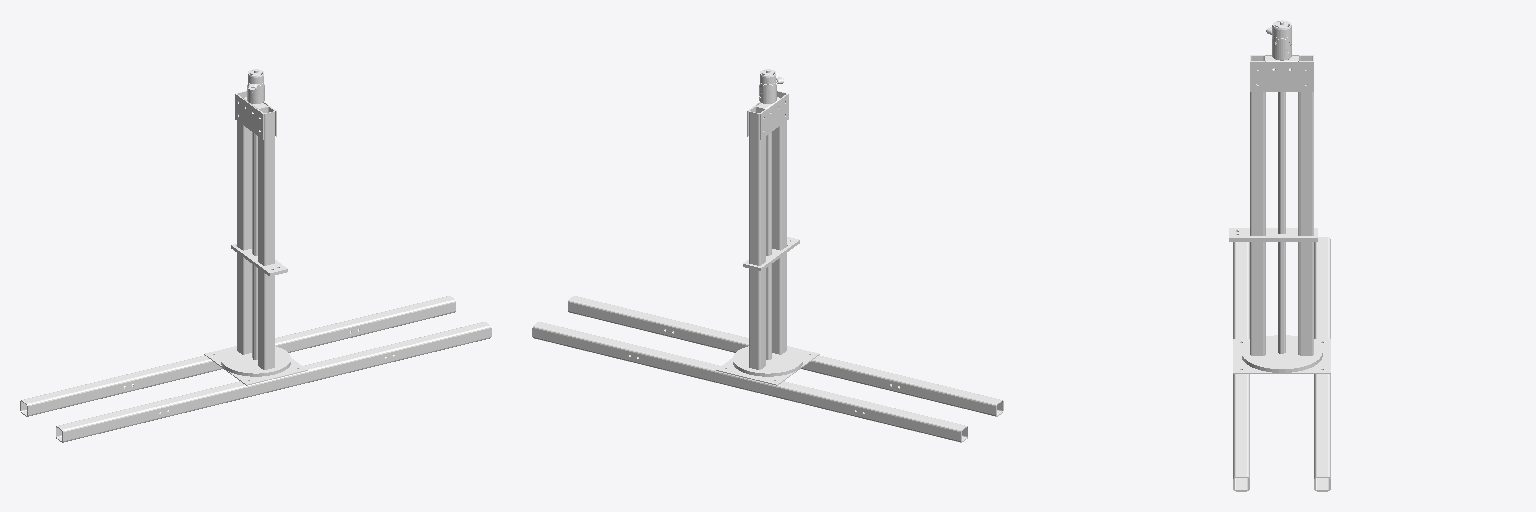
robot.urdf — gluon:
<?xml version="1.0" encoding="utf-8"?>
<!-- This URDF was automatically created by SolidWorks to URDF Exporter! Originally created by [author] ([email redacted]) 
     Commit Version: 1.5.1-0-g916b5db  Build Version: 1.5.7152.31018
     For more information, please see http://wiki.ros.org/sw_urdf_exporter -->
<robot
  name="gluon">
  <link
    name="dummy">
  </link>
  <joint
    name="dummy_center_joint"
    type="fixed">
    <origin
        xyz="0 0 0"
        rpy="0 0 0" />
    <parent
        link="dummy" />
    <child
        link="center_link" />
  </joint>
  <link
    name="center_link">
        <inertial>
      <origin
        xyz="4.33680868994202E-18 -6.00214600243731E-11 0.0271404483614374"
        rpy="0 0 0" />
      <mass
        value="0.524001417146026" />
      <inertia
        ixx="0.000535467082580035"
        ixy="-5.8056109802237E-10"
        ixz="3.22416889484249E-20"
        iyy="0.000535467122847014"
        iyz="-1.91837356854663E-11"
        izz="0.000799852045598815" />
    </inertial>
    <visual>
      <origin
        xyz="0 0 0"
        rpy="0 0 0" />
      <geometry>
        <mesh
          filename="package://gluon/meshes/center_link.STL" />
      </geometry>
      <material
        name="">
        <color
          rgba="1 1 1 1" />
      </material>
    </visual>
    <collision>
      <origin
        xyz="0 0 0"
        rpy="0 0 0" />
      <geometry>
        <mesh
          filename="package://gluon/meshes/center_link.STL" />
      </geometry>
    </collision>
  </link>
  <link
    name="base_link">
    <inertial>
      <origin
        xyz="4.33680868994202E-18 -6.00214600243731E-11 0.0271404483614374"
        rpy="0 0 0" />
      <mass
        value="0.524001417146026" />
      <inertia
        ixx="0.000535467082580035"
        ixy="-5.8056109802237E-10"
        ixz="3.22416889484249E-20"
        iyy="0.000535467122847014"
        iyz="-1.91837356854663E-11"
        izz="0.000799852045598815" />
    </inertial>
    <visual>
      <origin
        xyz="0 0 0"
        rpy="0 0 0" />
      <geometry>
        <mesh
          filename="package://gluon/meshes/base_link.STL" />
      </geometry>
      <material
        name="">
        <color
          rgba="1 1 1 1" />
      </material>
    </visual>
    <collision>
      <origin
        xyz="0 0 0"
        rpy="0 0 0" />
      <geometry>
        <mesh
          filename="package://gluon/meshes/base_link.STL" />
      </geometry>
    </collision>
  </link>
  <joint
    name="left_base_joint"
    type="fixed">
    <origin
        xyz="0 0 0"
        rpy="0 0 0" />
    <parent
        link="center_link" />
    <child
        link="base_link" />
  </joint>
  <link
    name="1_Link">
    <inertial>
      <origin
        xyz="0.00464247258603146 -3.55800695980568E-05 -0.000556506974114818"
        rpy="0 0 0" />
      <mass
        value="0.166259789544396" />
      <inertia
        ixx="6.76518298922659E-05"
        ixy="-1.5556489245956E-08"
        ixz="-8.15879264327807E-06"
        iyy="6.70385565720365E-05"
        iyz="4.11369338798553E-08"
        izz="6.03698353342124E-05" />
    </inertial>
    <visual>
      <origin
        xyz="0 0 0"
        rpy="0 0 0" />
      <geometry>
        <mesh
          filename="package://gluon/meshes/1_Link.STL" />
      </geometry>
      <material
        name="">
        <color
          rgba="1 1 1 1" />
      </material>
    </visual>
    <collision>
      <origin
        xyz="0 0 0"
        rpy="0 0 0" />
      <geometry>
        <mesh
          filename="package://gluon/meshes/1_Link.STL" />
      </geometry>
    </collision>
  </link>
  <joint
    name="axis_joint_1"
    type="revolute">
    <origin
      xyz="-2.4327E-05 2.2695E-05 0.105"
      rpy="0 0 0" />
    <parent
      link="base_link" />
    <child
      link="1_Link" />
    <axis
      xyz="0 0 -1" />
    <limit
      lower="-2.79"
      upper="2.79"
      effort="30"
      velocity="3.14" />
  </joint>
  <link
    name="2_Link">
    <inertial>
      <origin
        xyz="-0.00354399449686532 6.83167072432211E-06 0.0535596075762168"
        rpy="0 0 0" />
      <mass
        value="0.316094041078938" />
      <inertia
        ixx="0.000174638310500152"
        ixy="-4.1835416811351E-08"
        ixz="-2.08841744154906E-07"
        iyy="0.000184936237600061"
        iyz="1.60668786323061E-08"
        izz="0.000107780595065675" />
    </inertial>
    <visual>
      <origin
        xyz="0 0 0"
        rpy="0 0 0" />
      <geometry>
        <mesh
          filename="package://gluon/meshes/2_Link.STL" />
      </geometry>
      <material
        name="">
        <color
          rgba="1 1 1 1" />
      </material>
    </visual>
    <collision>
      <origin
        xyz="0 0 0"
        rpy="0 0 0" />
      <geometry>
        <mesh
          filename="package://gluon/meshes/2_Link.STL" />
      </geometry>
    </collision>
  </link>
  <joint
    name="axis_joint_2"
    type="revolute">
    <origin
      xyz="0.080113 -2.2695E-05 0"
      rpy="0 0 0" />
    <parent
      link="1_Link" />
    <child
      link="2_Link" />
    <axis
      xyz="-1 0 0" />
    <limit
      lower="-1.54"
      upper="1.54"
      effort="30"
      velocity="3.14" />
  </joint>
  <link
    name="3_Link">
    <inertial>
      <origin
        xyz="-0.046552753550141 -6.68259662081616E-06 0.0523242797053055"
        rpy="0 0 0" />
      <mass
        value="0.323135746651779" />
      <inertia
        ixx="0.000176611314431077"
        ixy="4.18325643591624E-08"
        ixz="2.08841259569185E-07"
        iyy="0.000185932099122903"
        iyz="1.40317731158265E-08"
        izz="0.000108776454638344" />
    </inertial>
    <visual>
      <origin
        xyz="0 0 0"
        rpy="0 0 0" />
      <geometry>
        <mesh
          filename="package://gluon/meshes/3_Link.STL" />
      </geometry>
      <material
        name="">
        <color
          rgba="1 1 1 1" />
      </material>
    </visual>
    <collision>
      <origin
        xyz="0 0 0"
        rpy="0 0 0" />
      <geometry>
        <mesh
          filename="package://gluon/meshes/3_Link.STL" />
      </geometry>
    </collision>
  </link>
  <joint
    name="axis_joint_3"
    type="revolute">
    <origin
      xyz="0 0 0.17447"
      rpy="0 0 0" />
    <parent
      link="2_Link" />
    <child
      link="3_Link" />
    <axis
      xyz="1 0 0" />
    <limit
      lower="-2.79"
      upper="2.79"
      effort="30"
      velocity="3.14" />
  </joint>
  <link
    name="4_Link">
    <inertial>
      <origin
        xyz="0.0182269184920331 1.24412678982888E-05 0.00395855146065832"
        rpy="0 0 0" />
      <mass
        value="0.174947986817189" />
      <inertia
        ixx="6.61039276820243E-05"
        ixy="4.2340099438174E-08"
        ixz="-8.15879264340351E-06"
        iyy="6.76311730651952E-05"
        iyz="-1.4353323683088E-08"
        izz="6.34296690009448E-05" />
    </inertial>
    <visual>
      <origin
        xyz="0 0 0"
        rpy="0 0 0" />
      <geometry>
        <mesh
          filename="package://gluon/meshes/4_Link.STL" />
      </geometry>
      <material
        name="">
        <color
          rgba="1 1 1 1" />
      </material>
    </visual>
    <collision>
      <origin
        xyz="0 0 0"
        rpy="0 0 0" />
      <geometry>
        <mesh
          filename="package://gluon/meshes/4_Link.STL" />
      </geometry>
    </collision>
  </link>
  <joint
    name="axis_joint_4"
    type="revolute">
    <origin
      xyz="-0.084516 0 0.17442"
      rpy="0 0 0" />
    <parent
      link="3_Link" />
    <child
      link="4_Link" />
    <axis
      xyz="-1 0 0" />
    <limit
      lower="-2.79"
      upper="2.79"
      effort="30"
      velocity="3.14" />
  </joint>
  <link
    name="5_Link">
    <inertial>
      <origin
        xyz="0.00395855202736296 -3.51379306736399E-05 0.0182025903111476"
        rpy="0 0 0" />
      <mass
        value="0.174947985033356" />
      <inertia
        ixx="6.34296685392068E-05"
        ixy="1.43441999593359E-08"
        ixz="-8.15879467982627E-06"
        iyy="6.76311733496419E-05"
        iyz="-4.23418981680198E-08"
        izz="6.61039240611986E-05" />
    </inertial>
    <visual>
      <origin
        xyz="0 0 0"
        rpy="0 0 0" />
      <geometry>
        <mesh
          filename="package://gluon/meshes/5_Link.STL" />
      </geometry>
      <material
        name="">
        <color
          rgba="1 1 1 1" />
      </material>
    </visual>
    <collision>
      <origin
        xyz="0 0 0"
        rpy="0 0 0" />
      <geometry>
        <mesh
          filename="package://gluon/meshes/5_Link.STL" />
      </geometry>
    </collision>
  </link>
  <joint
    name="axis_joint_5"
    type="revolute">
    <origin
      xyz="0.080113 2.2695E-05 0"
      rpy="0 0 0" />
    <parent
      link="4_Link" />
    <child
      link="5_Link" />
    <axis
      xyz="0 0 -1" />
    <limit
      lower="-2.79"
      upper="2.79"
      effort="30"
      velocity="3.14" />
  </joint>
  <link
    name="6_Link">
    <inertial>
      <origin
        xyz="-0.00231632591813243 4.03819823737578E-05 -5.08515816782795E-05"
        rpy="0 0 0" />
      <mass
        value="0.122091979083374" />
      <inertia
        ixx="3.76561532469651E-05"
        ixy="4.18325643595058E-08"
        ixz="-2.08841259371089E-07"
        iyy="4.00422747874576E-05"
        iyz="-1.50489542382975E-08"
        izz="3.97966719504564E-05" />
    </inertial>
    <visual>
      <origin
        xyz="0 0 0"
        rpy="0 0 0" />
      <geometry>
        <mesh
          filename="package://gluon/meshes/6_Link.STL" />
      </geometry>
      <material
        name="">
        <color
          rgba="1 1 1 1" />
      </material>
    </visual>
    <collision>
      <origin
        xyz="0 0 0"
        rpy="0 0 0" />
      <geometry>
        <mesh
          filename="package://gluon/meshes/6_Link.STL" />
      </geometry>
    </collision>
  </link>
  <joint
    name="axis_joint_6"
    type="revolute">
    <origin
      xyz="0 -4.5391E-05 0.080089"
      rpy="0 0 0" />
    <parent
      link="5_Link" />
    <child
      link="6_Link" />
    <axis
      xyz="-1 0 0" />
    <limit
      lower="-2.79"
      upper="2.79"
      effort="30"
      velocity="3.14" />
  </joint>
</robot>

--- What the picture shows (computed from the rendered views, not written in the file) ---
The picture shows the robot from 3 angles, left to right: view 1: azimuth 30°, elevation 25°; view 2: azimuth 150°, elevation 25°; view 3: azimuth 270°, elevation 25°; orthographic projection.
Robot: gluon — 9 links, 8 joints (6 revolute, 2 fixed); root link dummy; default pose: every joint at zero.
Links seen in each view (by area): view 1: base_link; view 2: base_link; view 3: base_link.
Link boxes in pixels (x1=…): base_link: x1=20, y1=69, x2=491, y2=442; base_link: x1=532, y1=69, x2=1003, y2=442; base_link: x1=1229, y1=20, x2=1330, y2=491.
Bounding box of the posed robot: 0.7 × 0.125 × 0.4769 m (x, y, z).
Meshes: 8 distinct files referenced, 1 mesh visuals loaded (1 binary STL); not drawn: 7 (reference not matched to a file when rendering).